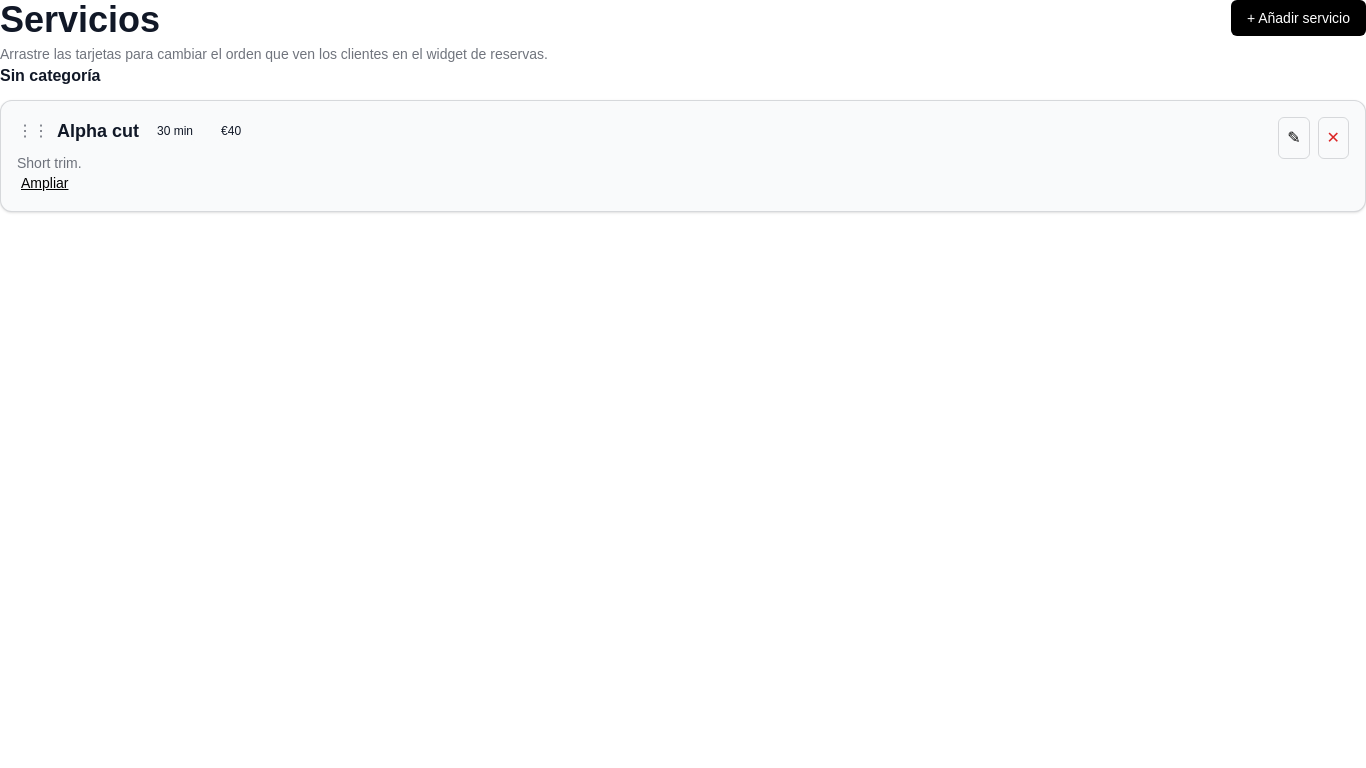
AdminServicesPage › edit and delete › edits a service and PUTs the updated catalog
Click the button "✎" at [1294, 138], box [1278,117,1310,159]
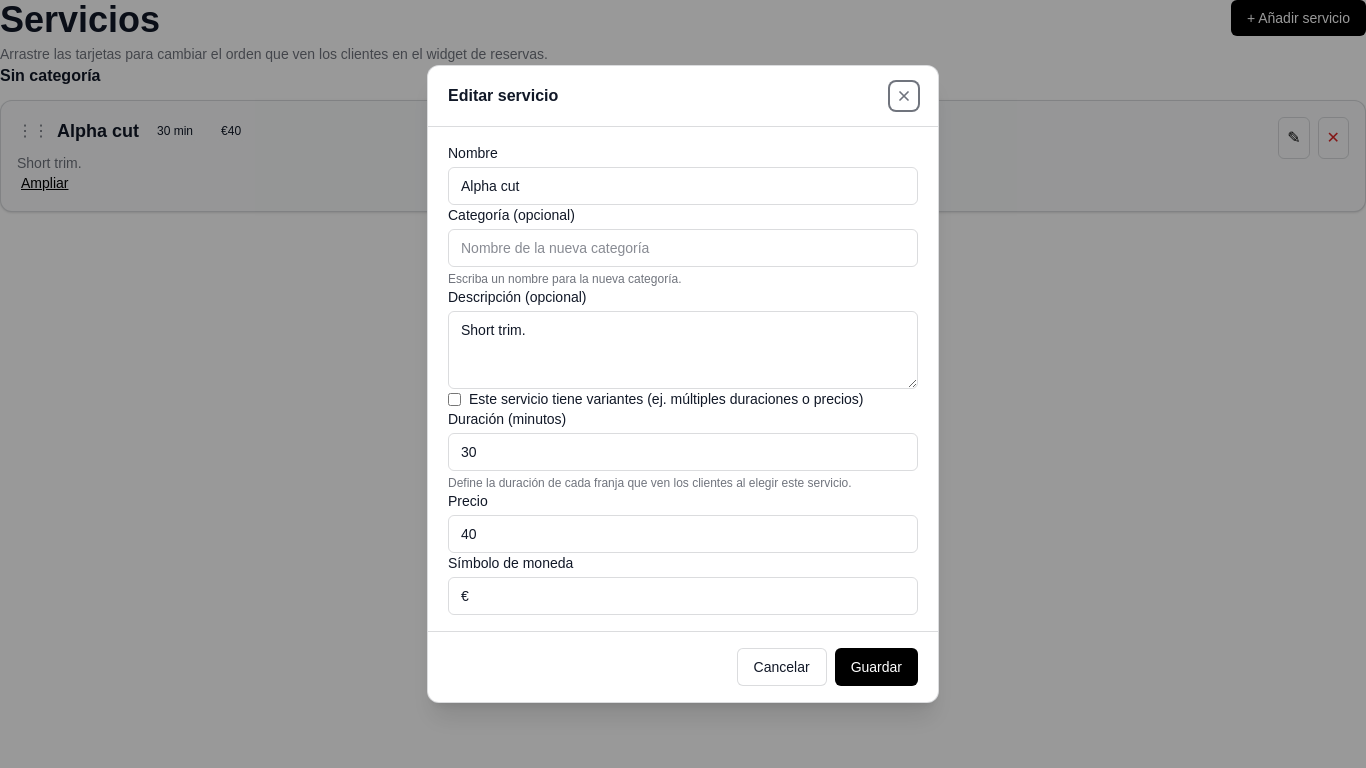
Replace the text in the field labelled "Nombre" with "Renamed cut" at [683, 186], box [448,167,918,205]
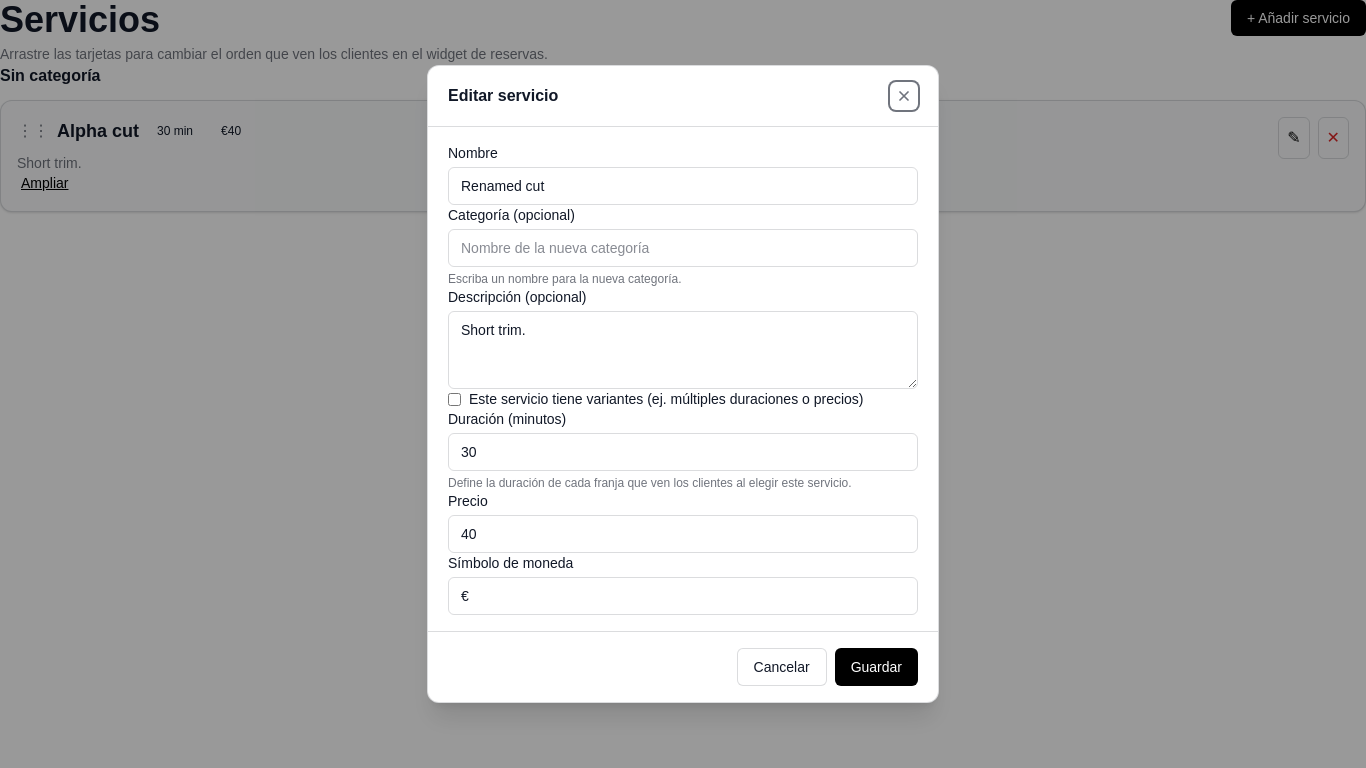
Click the button "Guardar" at [876, 667], box [835,648,918,686]
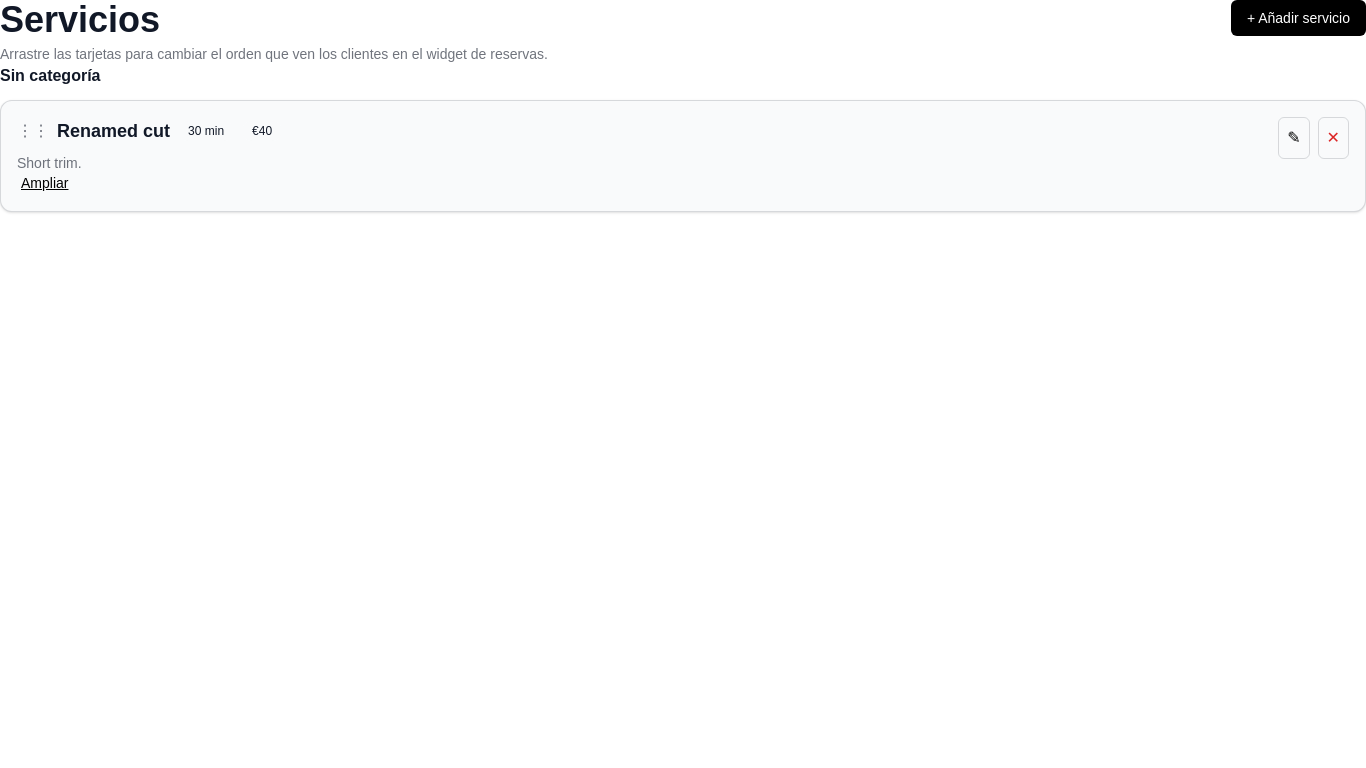
Now the heading "Editar servicio" is gone
Now the heading "Renamed cut" is shown, box [57,117,170,145]
